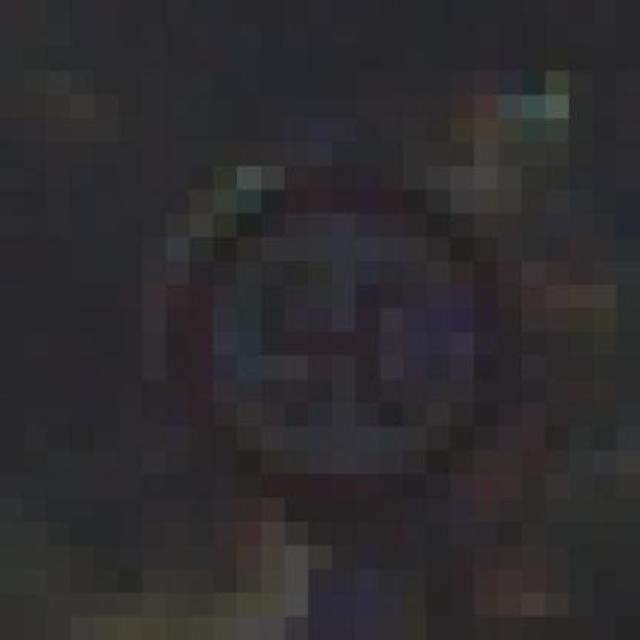50 mph speed limit: (86, 94, 583, 546)
